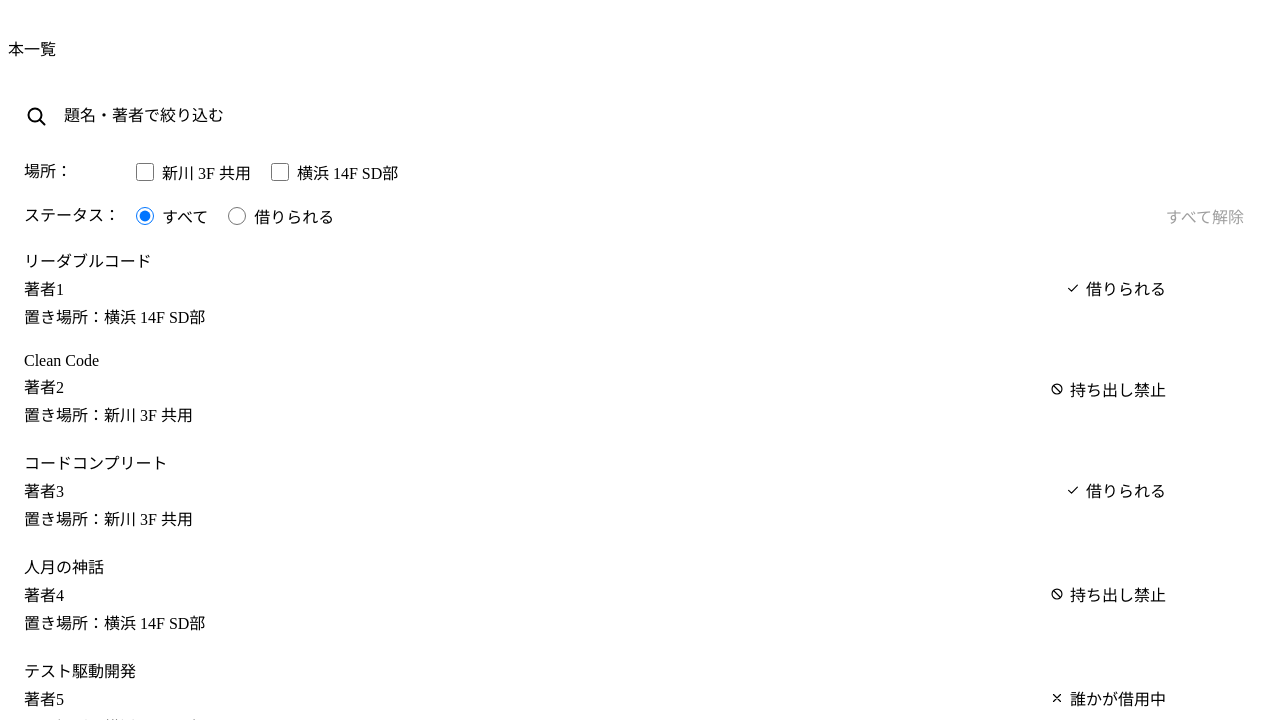
BookListPage（広い画面: 検索ボックスの下に直接並べる選択肢） › FC-84: 「すべて解除」は条件を選んでいるときだけ押せて、押すと全ての本に戻る
This screenshot has width=1280, height=720.
Expected: the button "すべて解除" is disabled, top-left (1154, 196), bottom-right (1256, 236)
What coordinates should you click on to do the following:
click the checkbox labelled "新川 3F 共用"
I would click on:
 (145, 172)
Its box is top-left (136, 163), bottom-right (154, 181).
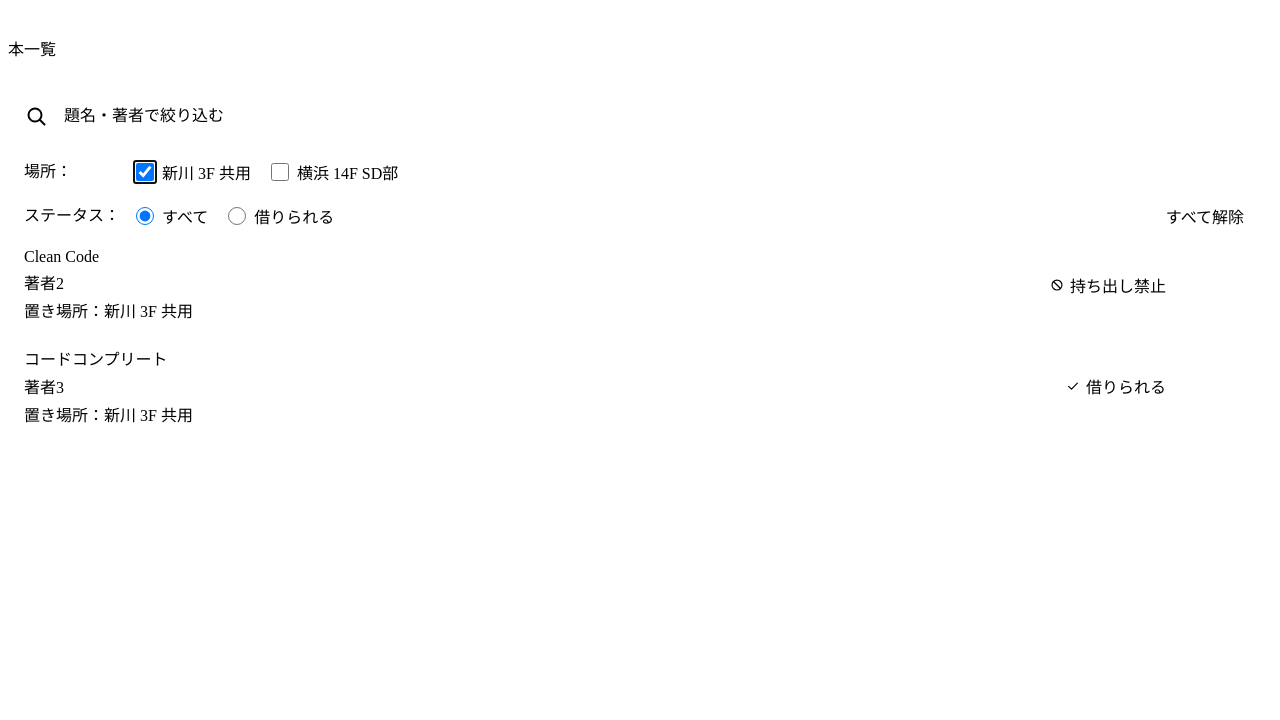
What coordinates should you click on to do the following:
click the radio button labelled "借りられる"
I would click on:
 (237, 216)
Its box is top-left (228, 207), bottom-right (246, 225).
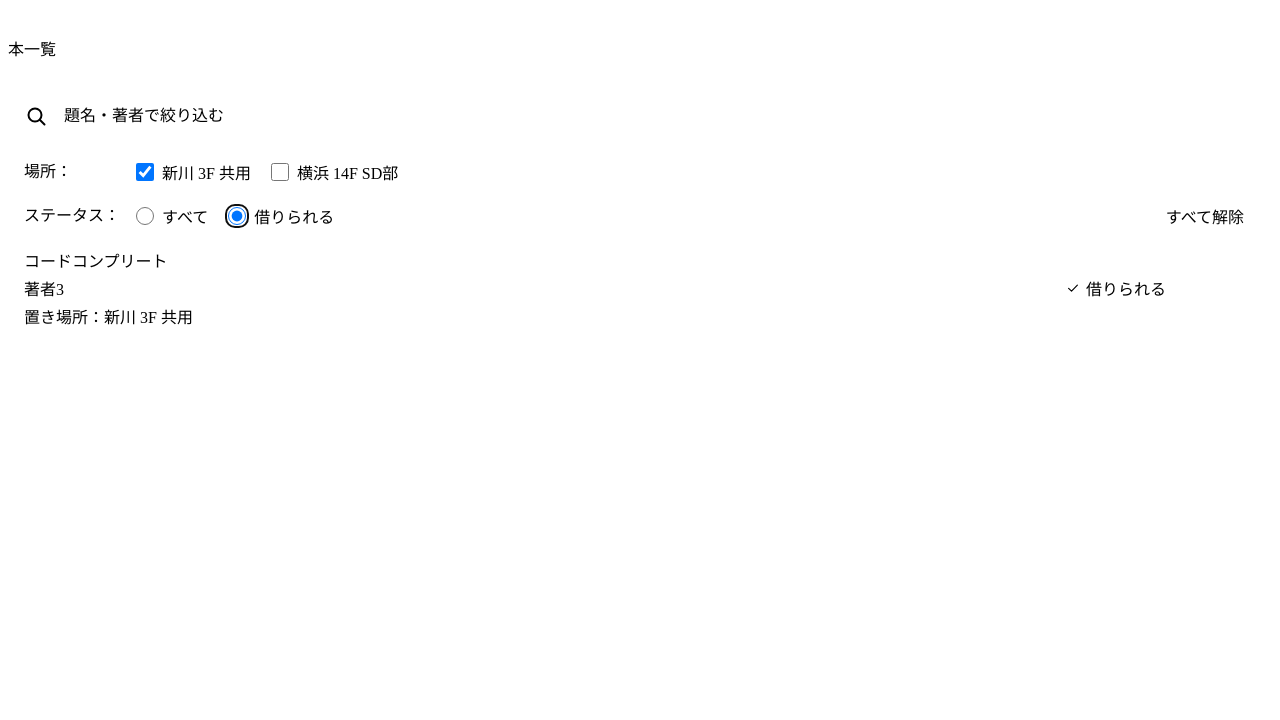
Result: the button "すべて解除" is enabled
What coordinates should you click on to do the following:
click the button "すべて解除"
I would click on:
 (1205, 216)
Its box is top-left (1154, 196), bottom-right (1256, 236).
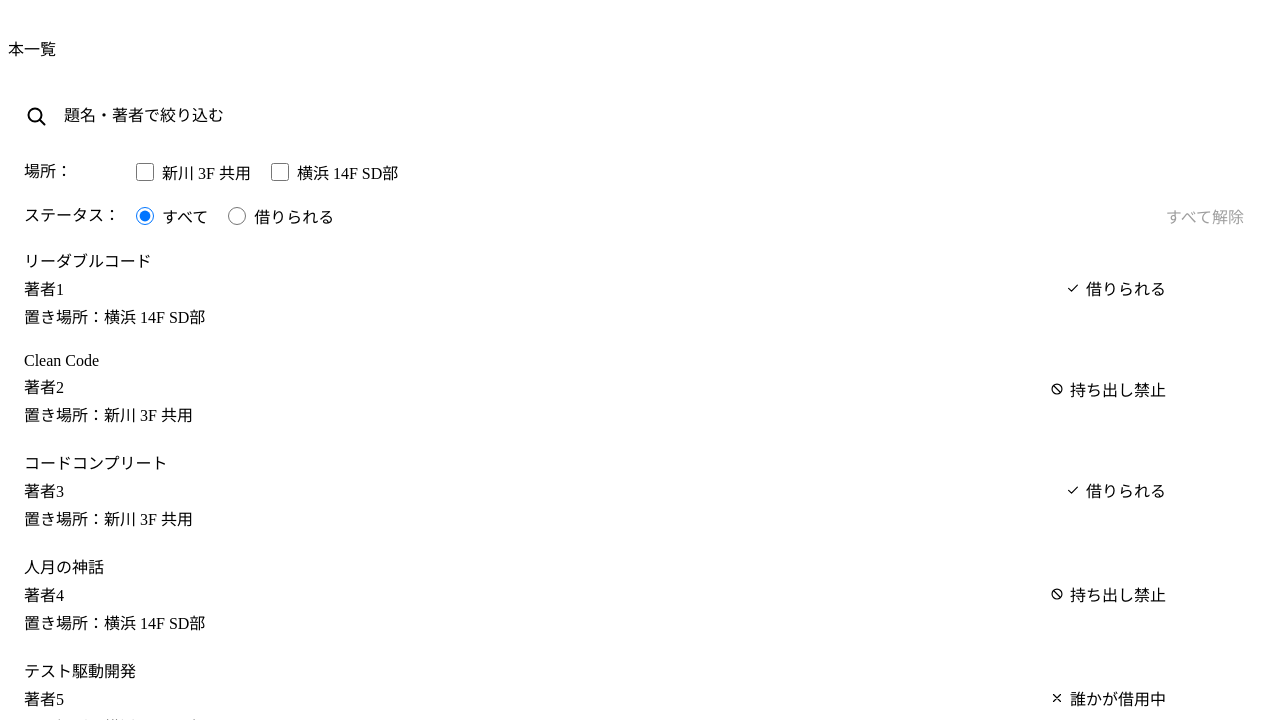
Result: the radio button labelled "すべて" is checked at top-left (136, 207), bottom-right (154, 225)
Result: the button "すべて解除" is disabled at top-left (1154, 196), bottom-right (1256, 236)
